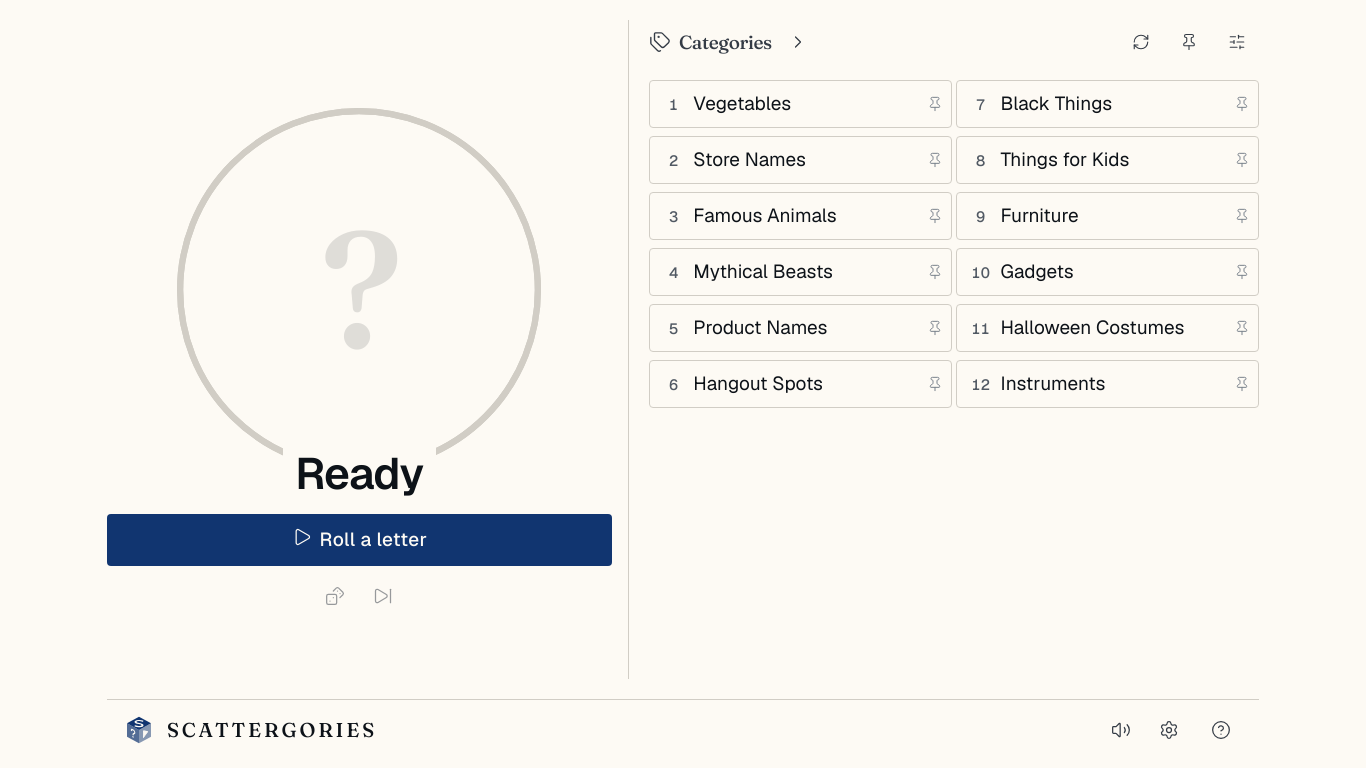
Test case: shows the skip confirmation as visible text while armed
Expected: the heading "Scattergories" is shown, [167,720,377,740]
Click the button "Roll a letter" at (359, 540), box [107,514,612,566]
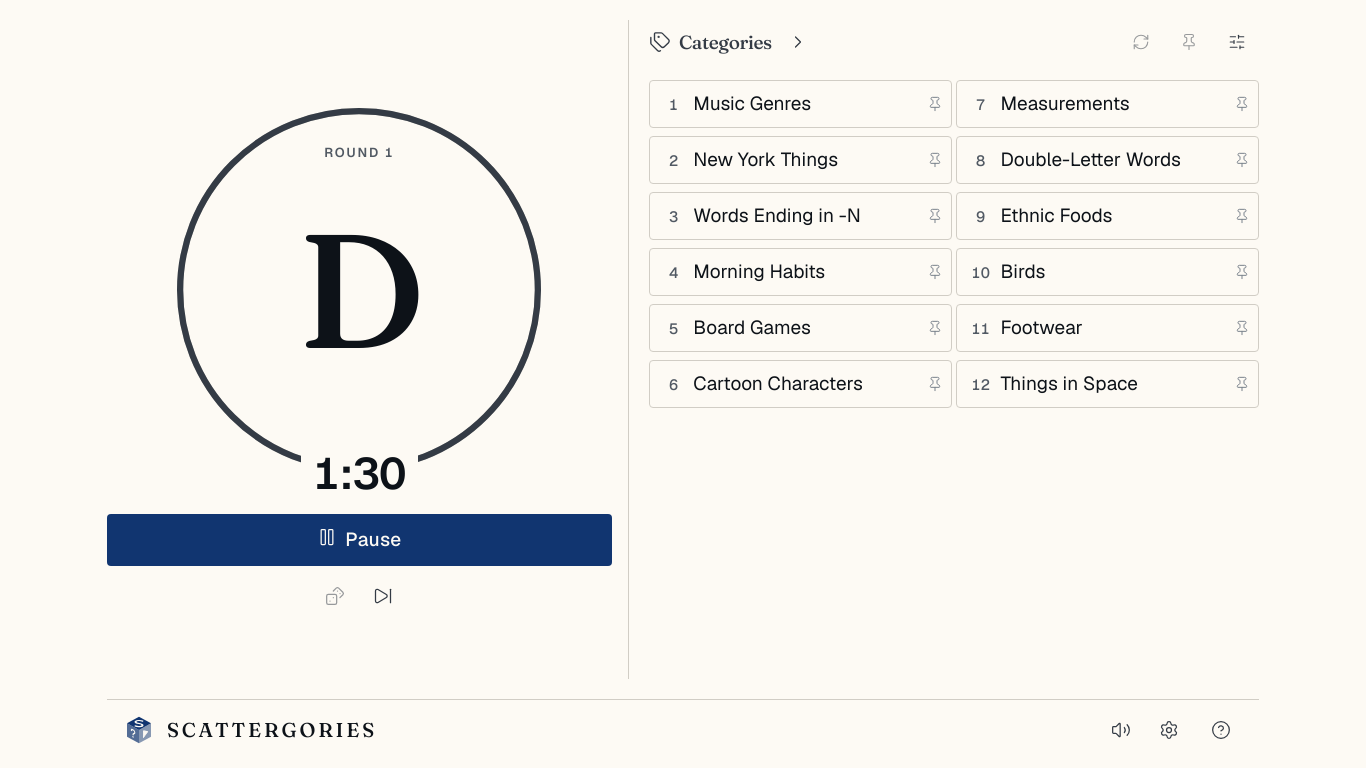
Expected: the text "Tap again to skip this round" is not shown
Expected: the button "Pause" is shown, [107,514,612,566]
Click the button named "Next round" at (383, 596), box [361,574,405,618]
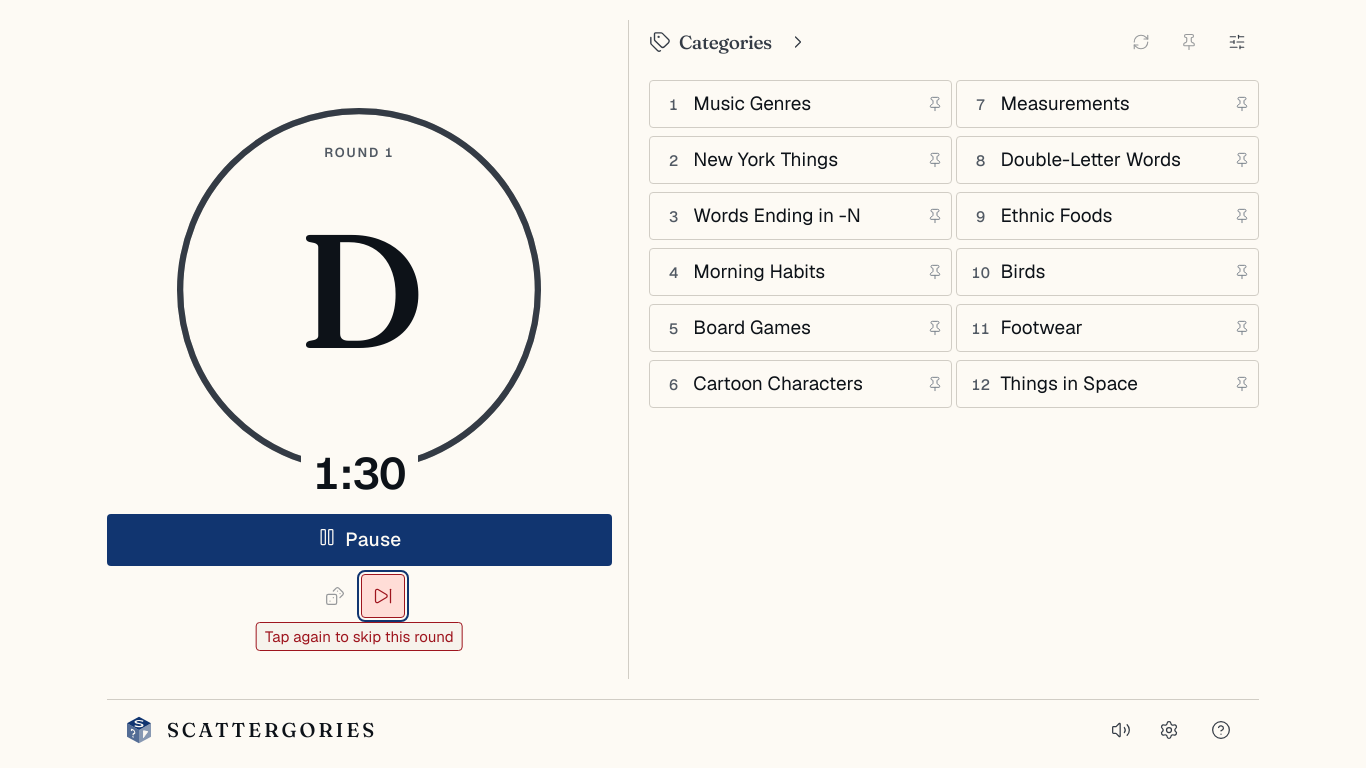
Expected: the text "Tap again to skip this round" is shown, [256,622,463,650]
